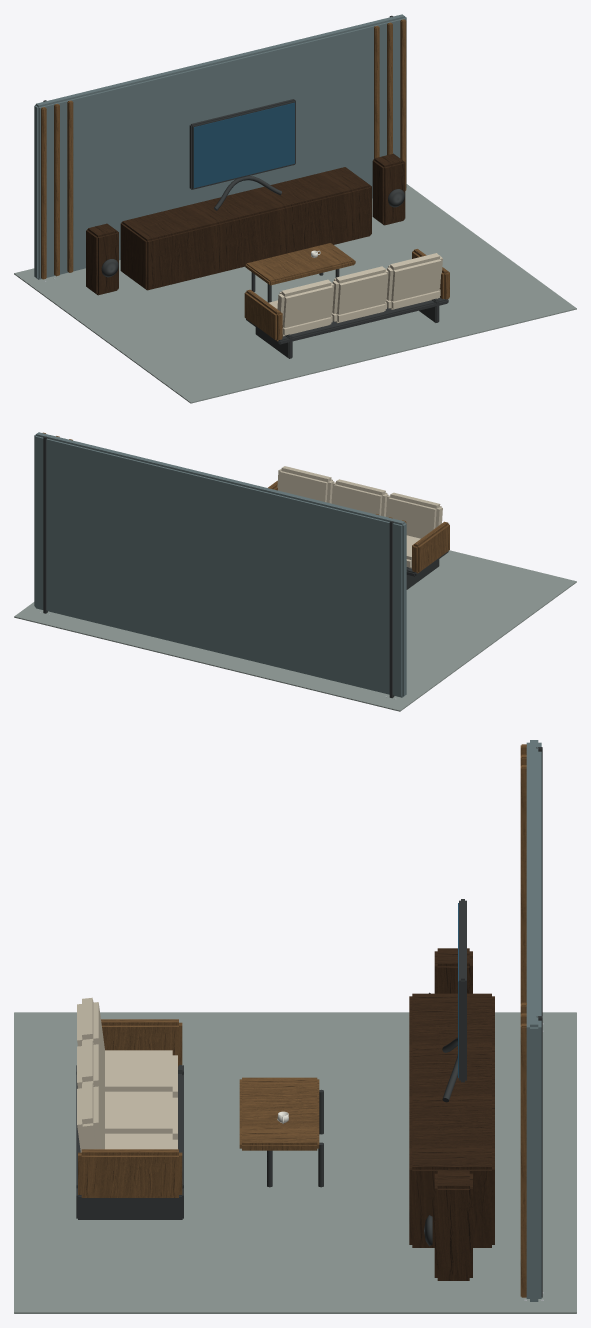
Rendered from cinema_room_v294.glb.
3 renders of one model, top to bottom at view 1: azimuth 30°, elevation 25°; view 2: azimuth 150°, elevation 25°; view 3: azimuth 270°, elevation 25°, orthographic. The views are drawn at different scales.
Parts seen in each view (by area): view 1: cinema_room_v294_V294_Acoustic_felt, cinema_room_v294_V294_Woven_rug, cinema_room_v294_CC0_Smoked_walnut, cinema_room_v294_CC0_Oak_veneer, cinema_room_v294_V17_woven_linen, cinema_room_v294_FY21_display_screen.002, cinema_room_v294_Anodised_graphite.009, cinema_room_v294_CC0_Smoked_walnut.003, cinema_room_v294_CC0_Smoked_walnut.002, cinema_room_v294_CC0_Oak_veneer.001, cinema_room_v294_Anodised_graphite.006; view 2: cinema_room_v294_V294_Acoustic_felt, cinema_room_v294_V294_Woven_rug, cinema_room_v294_V17_woven_linen, cinema_room_v294_Anodised_graphite, cinema_room_v294_CC0_Oak_veneer.001, cinema_room_v294_Anodised_graphite.009; view 3: cinema_room_v294_V294_Woven_rug, cinema_room_v294_CC0_Smoked_walnut, cinema_room_v294_V17_woven_linen, cinema_room_v294_CC0_Oak_veneer, cinema_room_v294_V294_Acoustic_felt, cinema_room_v294_CC0_Oak_veneer.001, cinema_room_v294_CC0_Smoked_walnut.003, cinema_room_v294_Anodised_graphite.009, cinema_room_v294_Anodised_graphite.006, cinema_room_v294_Anodised_graphite, cinema_room_v294_CC0_Smoked_walnut.002.
Part boxes in pixels (x1,y1,x2,y2): cinema_room_v294_V294_Acoustic_felt: (34,14,406,279); cinema_room_v294_V294_Woven_rug: (14,184,576,403); cinema_room_v294_CC0_Smoked_walnut: (120,167,371,290); cinema_room_v294_CC0_Oak_veneer: (41,19,406,285); cinema_room_v294_V17_woven_linen: (268,253,442,336); cinema_room_v294_FY21_display_screen.002: (193,102,294,188); cinema_room_v294_Anodised_graphite.009: (246,297,448,358); cinema_room_v294_CC0_Smoked_walnut.003: (372,153,405,225); cinema_room_v294_CC0_Smoked_walnut.002: (86,223,118,295); cinema_room_v294_CC0_Oak_veneer.001: (244,249,449,341); cinema_room_v294_Anodised_graphite.006: (189,99,295,210); cinema_room_v294_V294_Acoustic_felt: (34,432,406,697); cinema_room_v294_V294_Woven_rug: (14,550,576,711); cinema_room_v294_V17_woven_linen: (277,466,442,568); cinema_room_v294_Anodised_graphite: (43,436,394,698); cinema_room_v294_CC0_Oak_veneer.001: (268,481,449,573); cinema_room_v294_Anodised_graphite.009: (406,551,448,589); cinema_room_v294_V294_Woven_rug: (14,1012,576,1313); cinema_room_v294_CC0_Smoked_walnut: (409,993,494,1247); cinema_room_v294_V17_woven_linen: (77,997,177,1152); cinema_room_v294_CC0_Oak_veneer: (239,744,526,1297); cinema_room_v294_V294_Acoustic_felt: (526,740,541,1301); cinema_room_v294_CC0_Oak_veneer.001: (78,1019,182,1197); cinema_room_v294_CC0_Smoked_walnut.003: (434,1171,472,1280); cinema_room_v294_Anodised_graphite.009: (76,1065,183,1219); cinema_room_v294_Anodised_graphite.006: (442,899,466,1102); cinema_room_v294_Anodised_graphite: (267,747,542,1297); cinema_room_v294_CC0_Smoked_walnut.002: (434,948,472,993).
Size of the model in its own units: 5.8 by 2.54 by 4.6.
16 materials, 5 textured.
